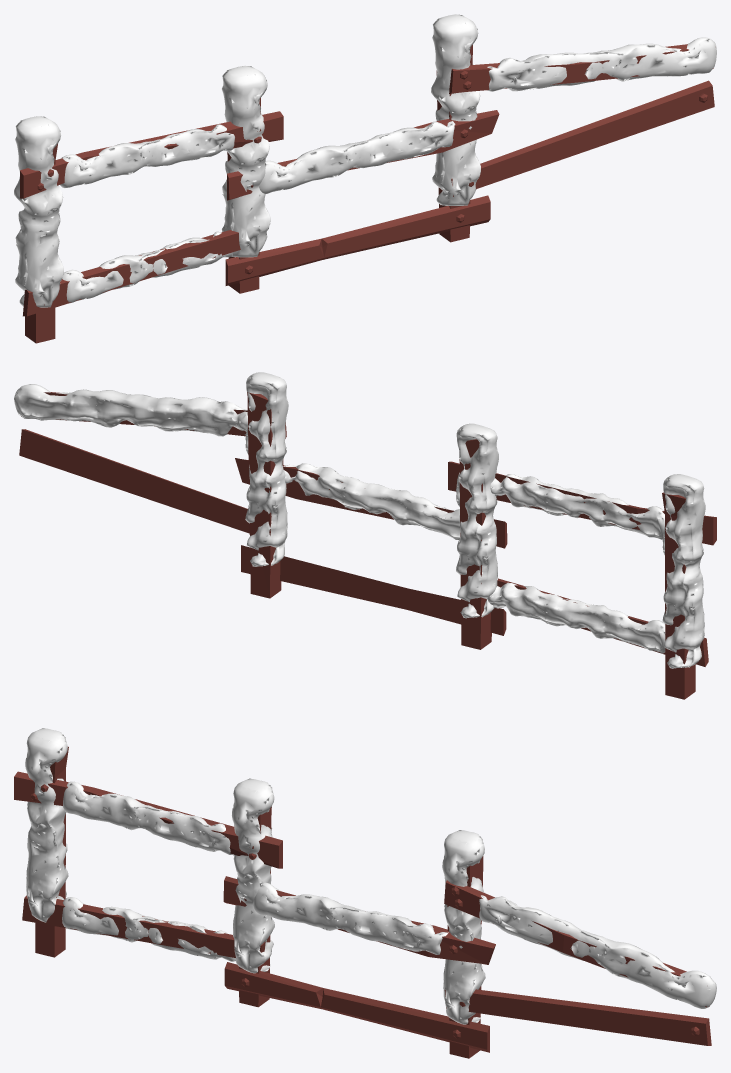
The picture shows the model from 3 angles, top to bottom: view 1: azimuth 30°, elevation 25°; view 2: azimuth 150°, elevation 25°; view 3: azimuth 330°, elevation 25°; orthographic projection.
Visible parts, largest first — view 1: Fense_1, Object_296, Object_300, Object_294, Object_295, Object_299, Object_297, Object_298; view 2: Fense_1, Object_300, Object_296, Object_294, Object_295, Object_298, Object_299, Object_297; view 3: Fense_1, Object_300, Object_296, Object_294, Object_299, Object_295, Object_297, Object_298.
Part boxes in pixels (x1,y1,x2,y2): Fense_1: (20,44,714,343); Object_296: (14,116,63,307); Object_300: (487,37,716,91); Object_294: (222,65,270,257); Object_295: (431,14,480,205); Object_299: (259,120,455,193); Object_297: (60,124,234,188); Object_298: (62,231,233,303); Fense_1: (19,392,716,699); Object_300: (14,384,247,436); Object_296: (662,474,705,668); Object_294: (456,423,498,618); Object_295: (245,372,288,566); Object_298: (487,582,665,653); Object_299: (283,463,460,539); Object_297: (490,474,664,539); Fense_1: (14,746,711,1058); Object_300: (479,892,716,1008); Object_296: (25,728,68,922); Object_294: (232,778,274,973); Object_299: (253,882,448,954); Object_295: (442,830,485,1024); Object_297: (62,781,233,854); Object_298: (62,897,235,961).
Bounding box in the file's own units: 3.62 × 1.08 × 0.2293.
